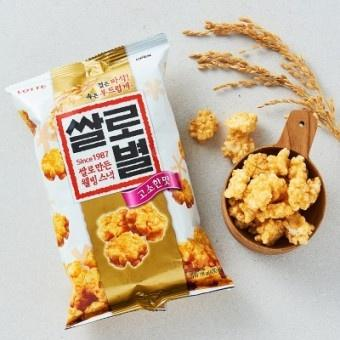snack: (4, 32, 237, 330)
